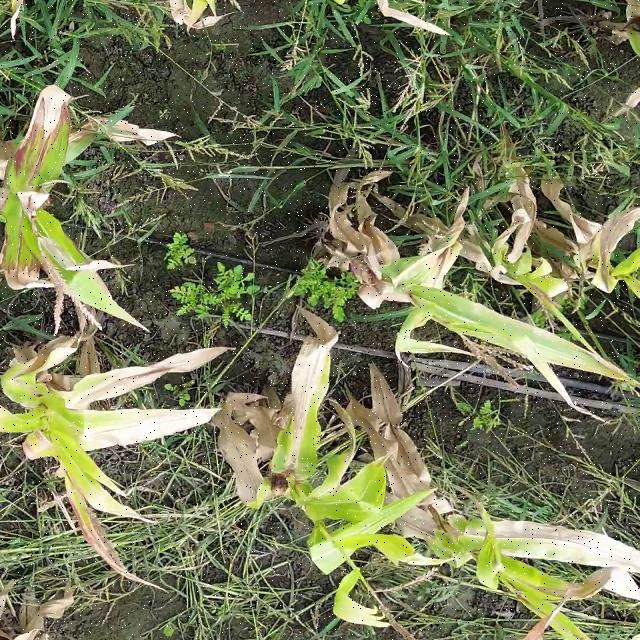northern-leaf-blight: (8, 73, 65, 262)
